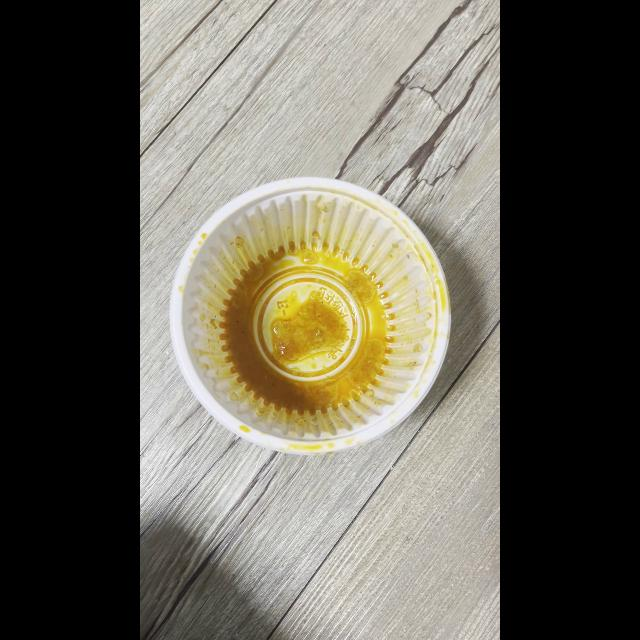dirty: (183, 199, 447, 453)
